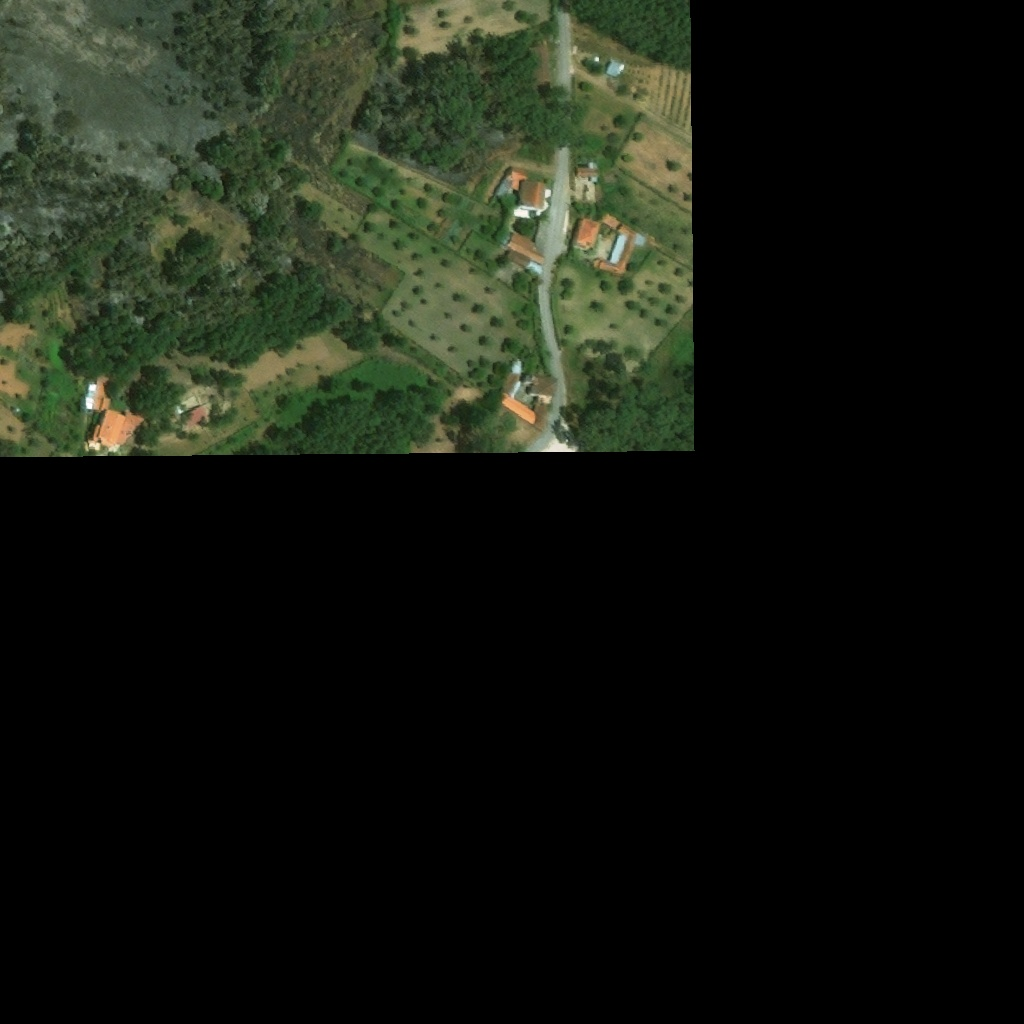0 no-damage: (88, 409, 143, 447), (597, 224, 637, 276), (505, 231, 545, 269), (497, 390, 537, 425), (529, 43, 551, 85), (573, 218, 600, 251), (517, 180, 545, 210), (530, 374, 558, 398), (94, 375, 112, 409), (502, 167, 526, 189), (575, 159, 601, 178), (534, 399, 549, 430), (501, 371, 520, 395), (604, 58, 626, 77), (633, 232, 646, 248), (512, 359, 522, 372)
